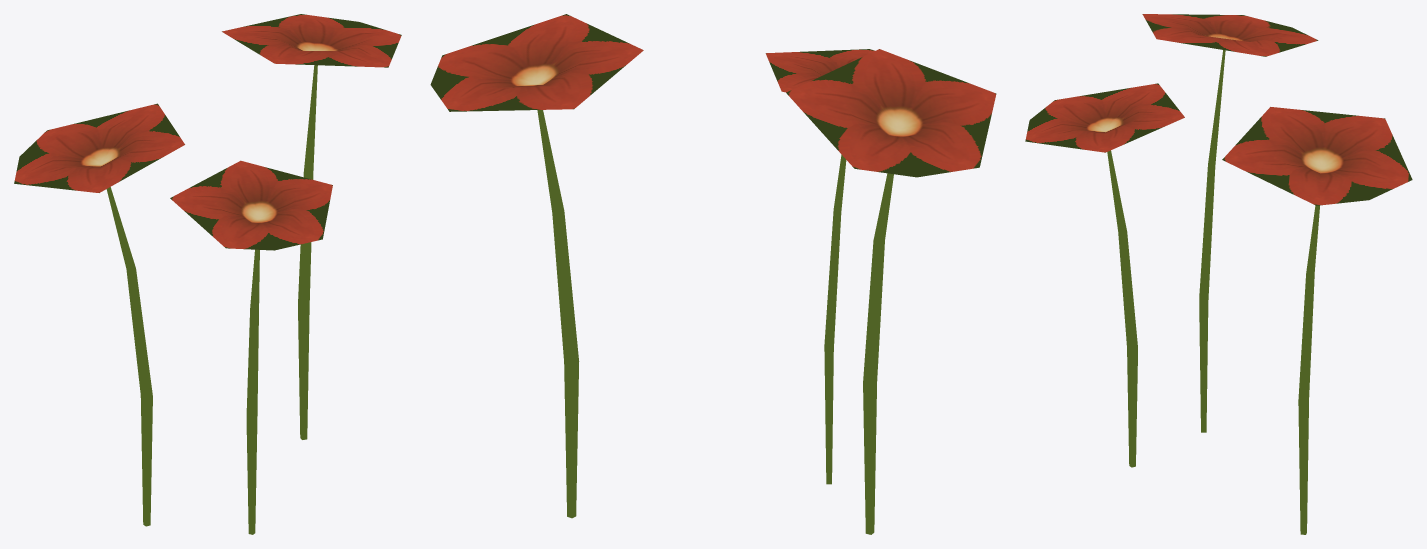
File: flowers_03.fbx
3 renders of one model, left to right at view 1: azimuth 30°, elevation 25°; view 2: azimuth 150°, elevation 25°; view 3: azimuth 270°, elevation 25°, orthographic. The views are drawn at different scales.
Visible parts, largest first — view 1: flowers_03; view 2: flowers_03; view 3: flowers_03.
Boxes of the visible parts, x1,y1,x2,y2 form: flowers_03: (14, 14, 401, 534); flowers_03: (430, 14, 996, 534); flowers_03: (1025, 14, 1412, 534).
Size of the model in its own units: 62.91 by 56.45 by 49.02.
